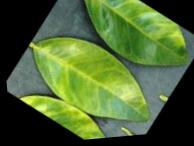Citrus Greening: (9, 7, 172, 145), (58, 0, 194, 97), (7, 64, 132, 146)
